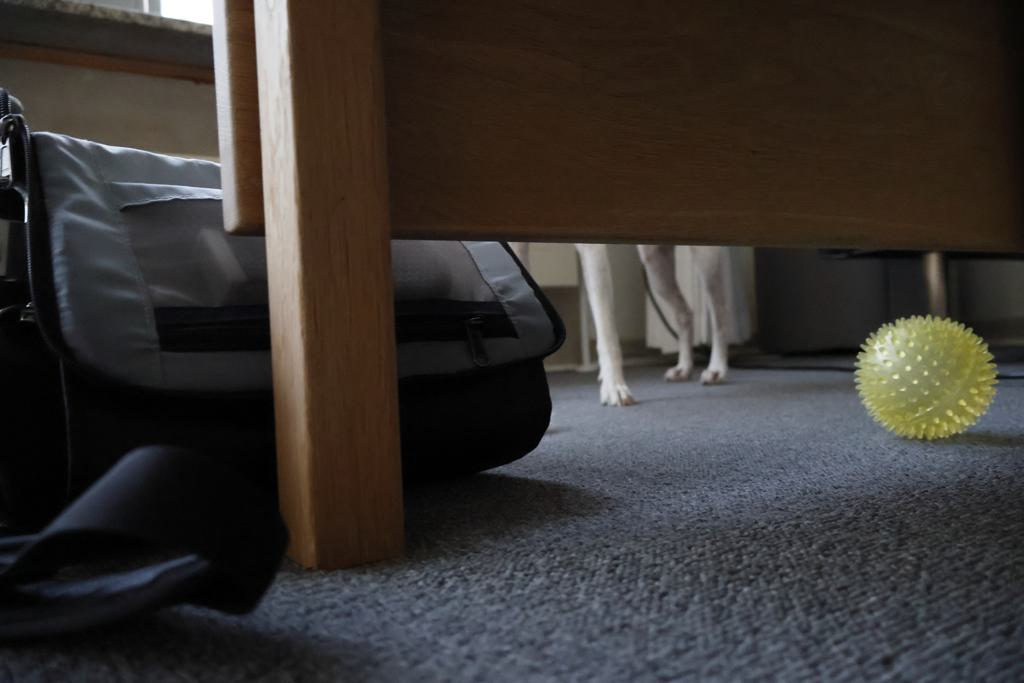Dog: (500, 240, 737, 413)
